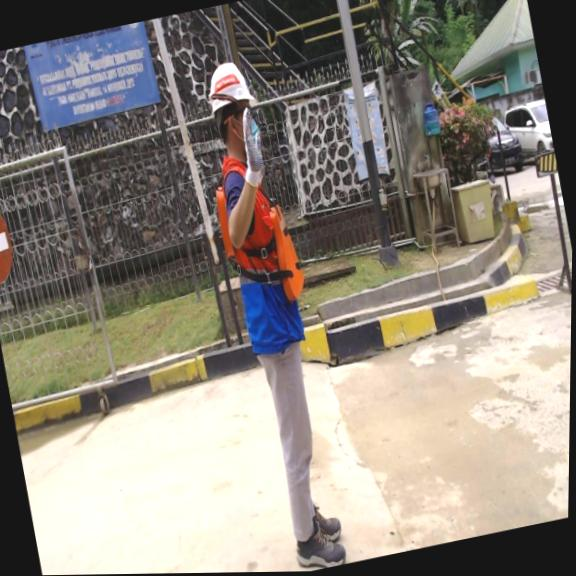safety_vest: (209, 169, 315, 314)
